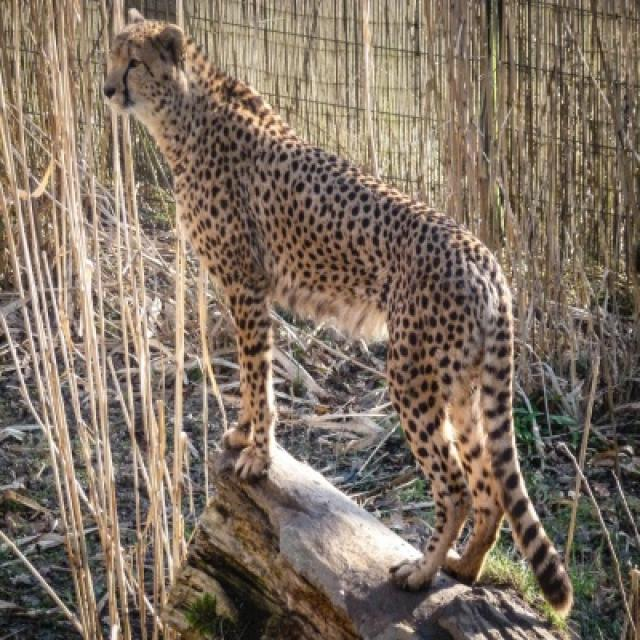Cheetah: (104, 10, 571, 618)
